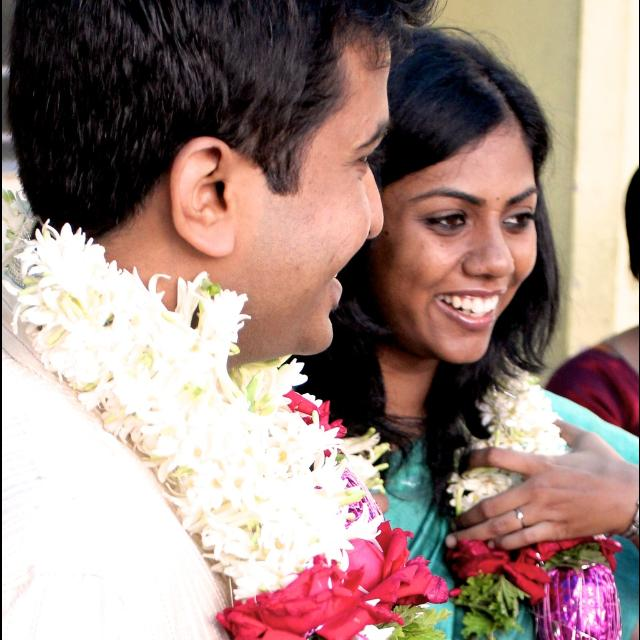Flower: (1, 194, 452, 608), (455, 354, 623, 640), (214, 556, 362, 640)
